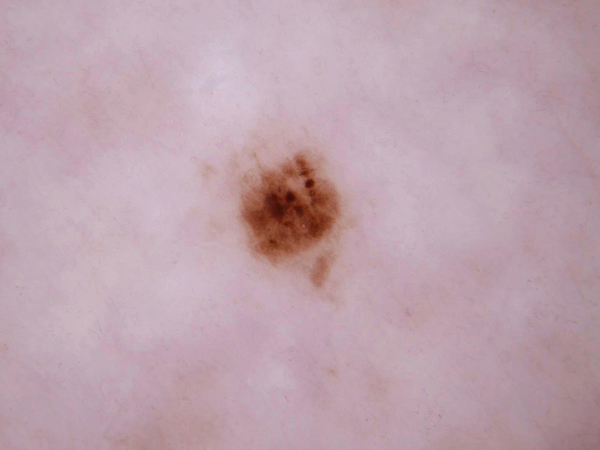Detected Lesion: (228, 140, 352, 295)
